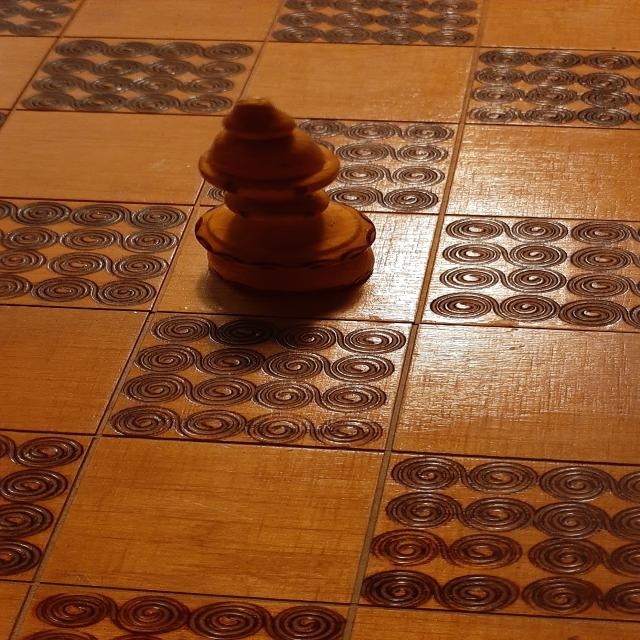white-queen: (194, 94, 378, 297)
